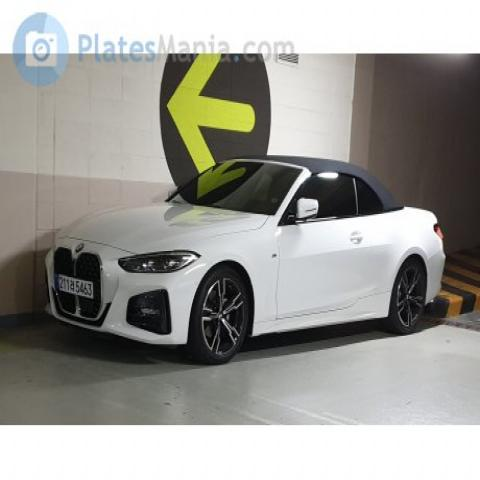LP: (53, 270, 102, 301)
